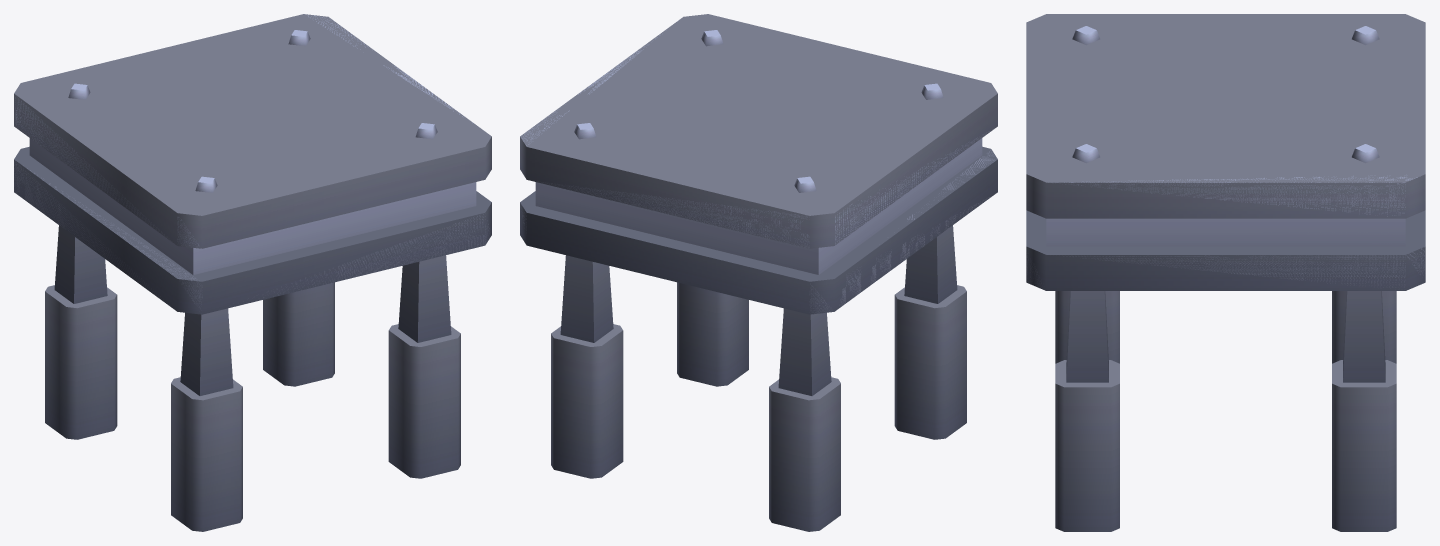
Rendered from structure-metal-floor.glb.
3 views of the same model, side by side, from view 1: azimuth 30°, elevation 25°; view 2: azimuth 150°, elevation 25°; view 3: azimuth 270°, elevation 25° (orthographic). The views are drawn at different scales.
Parts seen in each view (by area): view 1: structure-metal-floor; view 2: structure-metal-floor; view 3: structure-metal-floor.
Part boxes in pixels (<box>): structure-metal-floor: <box>14,14,491,531</box>; structure-metal-floor: <box>520,14,997,531</box>; structure-metal-floor: <box>1026,14,1425,531</box>.
Bounding box in the file's own units: 0.5 × 0.5125 × 0.5.
1 material, 1 textured.
